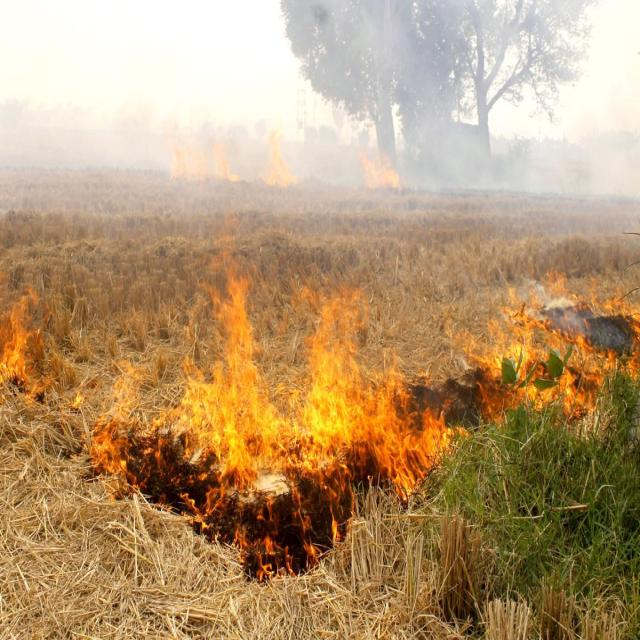fire: (180, 233, 296, 480), (300, 286, 431, 492), (467, 282, 640, 422), (89, 371, 147, 491), (3, 294, 48, 400)
